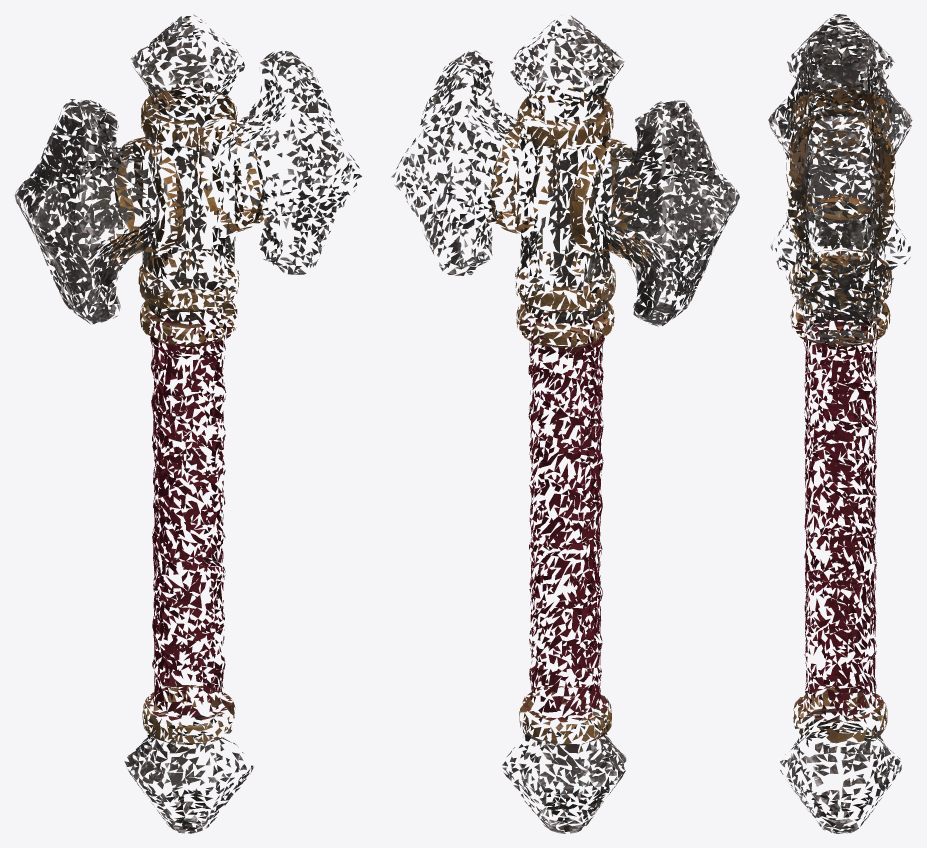
File: b_mace.glb
3 renders of one model, left to right at view 1: azimuth 30°, elevation 25°; view 2: azimuth 150°, elevation 25°; view 3: azimuth 270°, elevation 25°, orthographic.
Parts seen in each view (by area): view 1: shape_clean_textured; view 2: shape_clean_textured; view 3: shape_clean_textured.
Boxes of the visible parts, x1,y1,x2,y2 form: shape_clean_textured: (14,14,361,833); shape_clean_textured: (391,15,739,833); shape_clean_textured: (768,14,912,833).
Bounding box in the file's own units: 0.8002 × 1.99 × 0.3217.
Materials: 1 (1 with a texture image).
